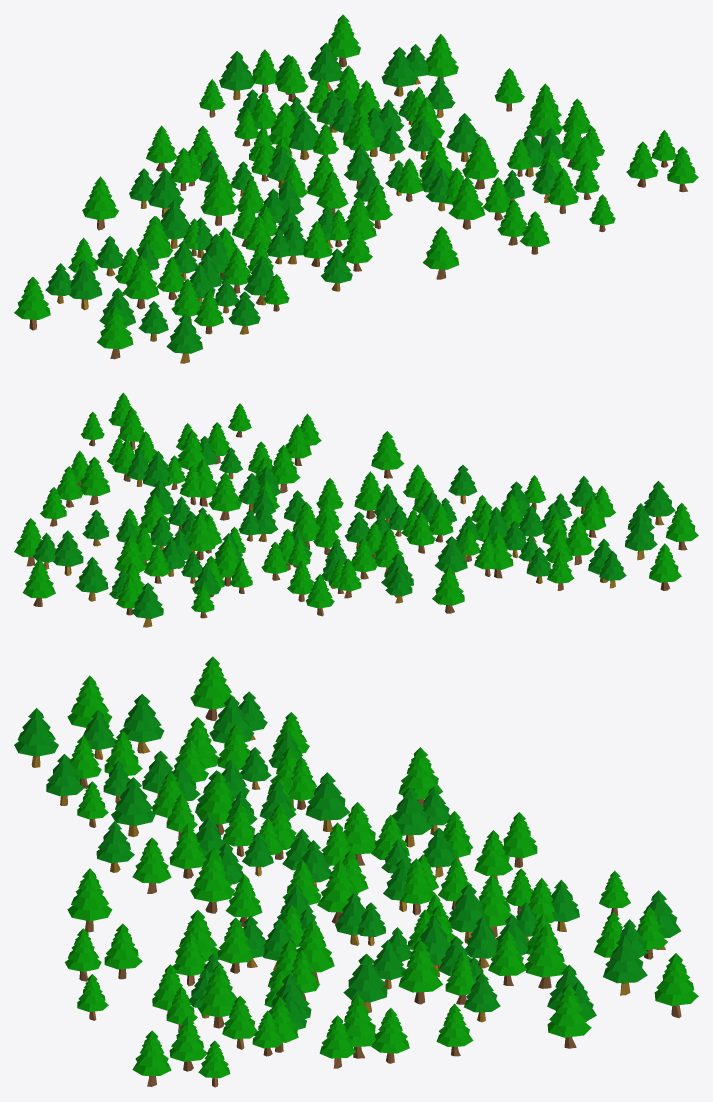
The model's file is trees_1.fbx.
3 views of the same model, one above another, from view 1: azimuth 30°, elevation 25°; view 2: azimuth 150°, elevation 25°; view 3: azimuth 270°, elevation 25° (orthographic). The views are drawn at different scales.
Parts seen in each view (by area): view 1: Cone.111, Cone.001, Cylinder.105, Cylinder.124; view 2: Cone.111, Cone.001, Cylinder.105, Cylinder.124; view 3: Cone.111, Cone.001, Cylinder.105, Cylinder.124.
Part boxes in pixels (x1,y1,x2,y2): Cone.111: (14,14,698,349); Cone.001: (45,42,563,353); Cylinder.105: (29,57,687,359); Cylinder.124: (57,76,550,363); Cone.111: (14,392,698,612); Cone.001: (32,436,675,618); Cylinder.105: (26,426,687,618); Cylinder.124: (44,473,664,627); Cone.111: (65,656,698,1078); Cone.001: (14,691,680,1030); Cylinder.105: (79,709,681,1087); Cylinder.124: (31,735,665,1031).
Size of the model in its own units: 5912 by 441 by 4395.
